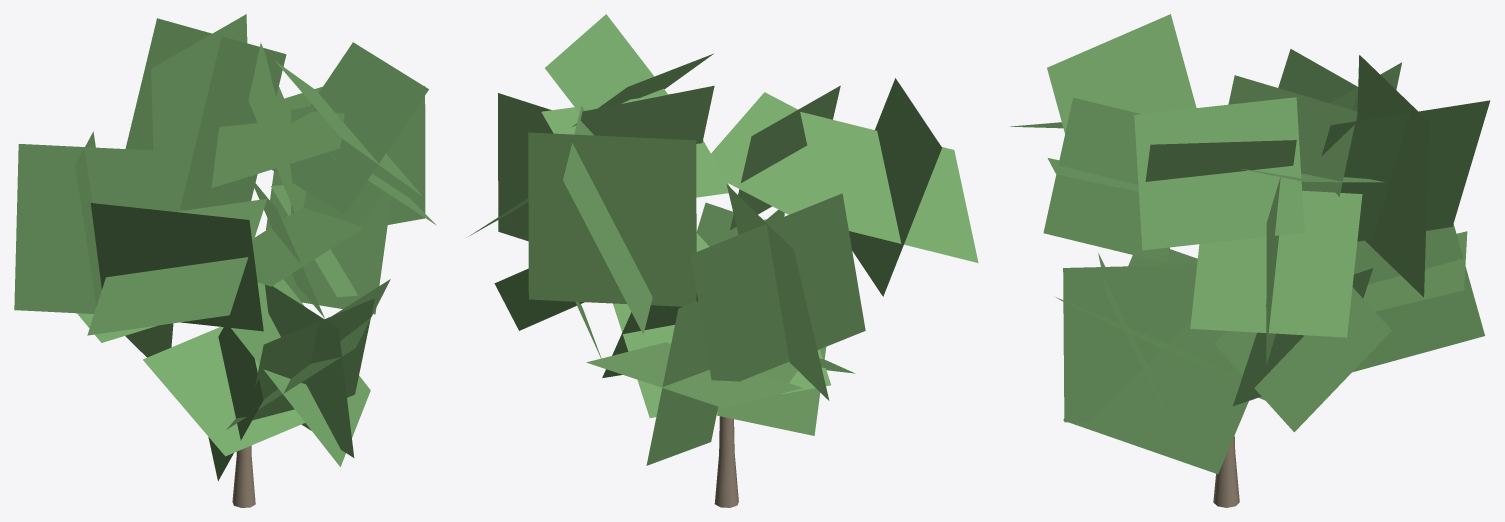
File: tree_plane_lod1.glb
3 views of the same model, side by side, from view 1: azimuth 30°, elevation 25°; view 2: azimuth 150°, elevation 25°; view 3: azimuth 270°, elevation 25° (orthographic). The views are drawn at different scales.
Visible parts, largest first — view 1: tree_plane_lod1; view 2: tree_plane_lod1; view 3: tree_plane_lod1.
Part boxes in pixels (x1,y1,x2,y2): tree_plane_lod1: (14, 14, 436, 507); tree_plane_lod1: (468, 14, 978, 507); tree_plane_lod1: (1010, 14, 1490, 507).
Size of the model in its own units: 9.99 by 9.7 by 9.69.
